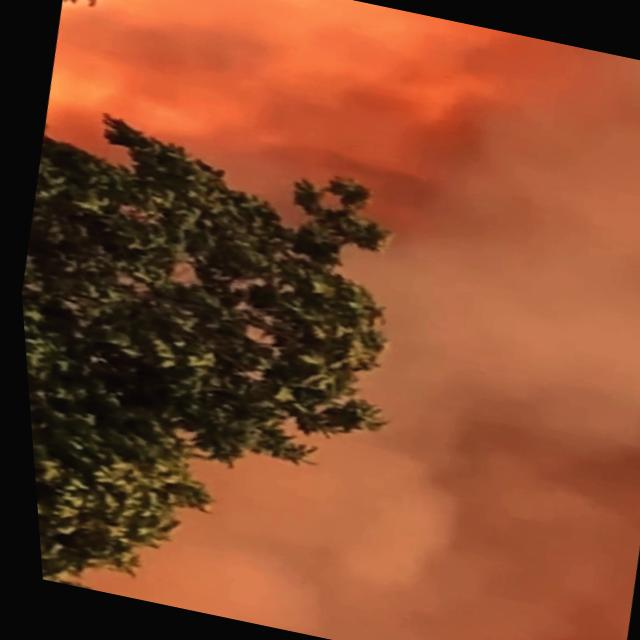smoke: (400, 37, 640, 640)
